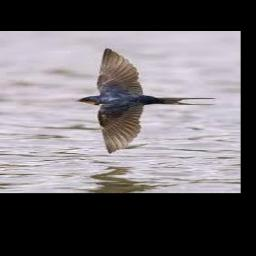Swallow: (76, 48, 218, 154)
